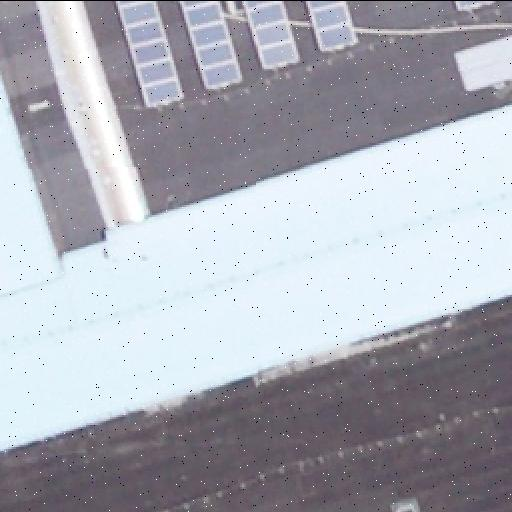solar-panel: (115, 0, 181, 108), (181, 0, 243, 88), (239, 0, 297, 68), (305, 0, 359, 48), (452, 0, 488, 8)
